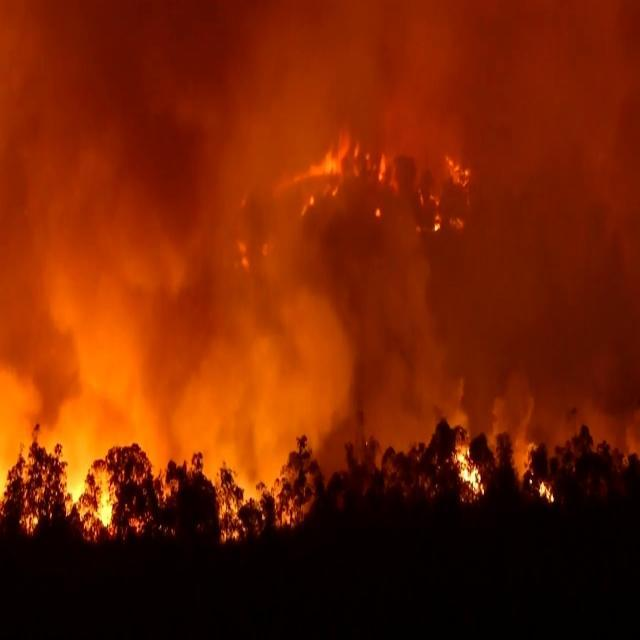Fire: (1, 434, 178, 544), (214, 458, 313, 544), (298, 124, 359, 217), (452, 441, 486, 502), (444, 152, 470, 188), (538, 480, 554, 505), (378, 152, 387, 182), (434, 212, 442, 232)
Smoke: (0, 1, 640, 487)
